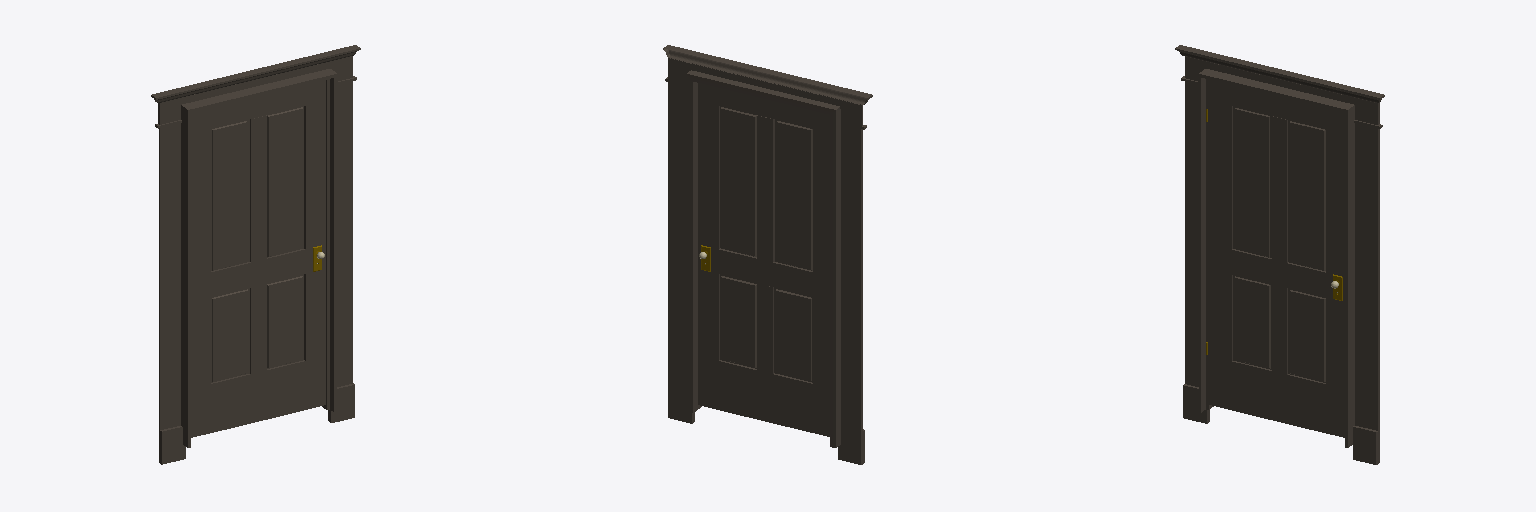
The model's file is basicdoor.obj.
3 renders of one model, left to right at view 1: azimuth 30°, elevation 25°; view 2: azimuth 150°, elevation 25°; view 3: azimuth 330°, elevation 25°, orthographic.
Visible parts, largest first — view 1: rail_02, door_trim0, rail_01, panel_04, panel_03, door_trim_, door_casi1, panel_01, door_casi0, panel_02, rail_03, stile_03 (+9 smaller); view 2: door_trim0, rail_02, door_trim_, panel_04, rail_01, panel_03, door_casi0, door_casi1, panel_01, panel_02, door_trim3, rail_03 (+7 smaller); view 3: rail_01, door_trim_, rail_02, panel_04, panel_03, door_trim0, panel_01, door_casi1, door_casi0, panel_02, stile_03, stile_02 (+9 smaller).
Boxes of the visible parts, x1=… form: rail_02: x1=304, y1=80, x2=325, y2=409; door_trim0: x1=159, y1=123, x2=180, y2=429; rail_01: x1=191, y1=108, x2=210, y2=437; panel_04: x1=211, y1=120, x2=249, y2=270; panel_03: x1=267, y1=106, x2=303, y2=257; door_trim_: x1=337, y1=81, x2=352, y2=386; door_casi1: x1=322, y1=77, x2=336, y2=412; panel_01: x1=211, y1=288, x2=249, y2=382; door_casi0: x1=181, y1=108, x2=190, y2=447; panel_02: x1=267, y1=275, x2=303, y2=368; rail_03: x1=250, y1=115, x2=266, y2=262; stile_03: x1=211, y1=249, x2=305, y2=296; door_trim0: x1=838, y1=125, x2=862, y2=464; rail_02: x1=698, y1=90, x2=719, y2=409; door_trim_: x1=668, y1=82, x2=691, y2=423; panel_04: x1=775, y1=120, x2=812, y2=270; rail_01: x1=813, y1=118, x2=829, y2=436; panel_03: x1=720, y1=106, x2=756, y2=256; door_casi0: x1=830, y1=109, x2=840, y2=447; door_casi1: x1=687, y1=76, x2=701, y2=412; panel_01: x1=774, y1=288, x2=812, y2=382; panel_02: x1=720, y1=275, x2=756, y2=368; door_trim3: x1=668, y1=56, x2=862, y2=128; rail_03: x1=757, y1=115, x2=774, y2=262; rail_01: x1=1209, y1=80, x2=1232, y2=409; door_trim_: x1=1355, y1=123, x2=1379, y2=463; rail_02: x1=1326, y1=108, x2=1344, y2=437; panel_04: x1=1233, y1=107, x2=1271, y2=257; panel_03: x1=1288, y1=120, x2=1325, y2=270; door_trim0: x1=1185, y1=82, x2=1198, y2=386; panel_01: x1=1233, y1=275, x2=1271, y2=369; door_casi1: x1=1345, y1=108, x2=1354, y2=447; door_casi0: x1=1199, y1=77, x2=1213, y2=412; panel_02: x1=1288, y1=288, x2=1325, y2=382; stile_03: x1=1232, y1=249, x2=1325, y2=296; stile_02: x1=1232, y1=361, x2=1325, y2=408.
Size of the model in its own units: 52.1 by 89.72 by 6.16.